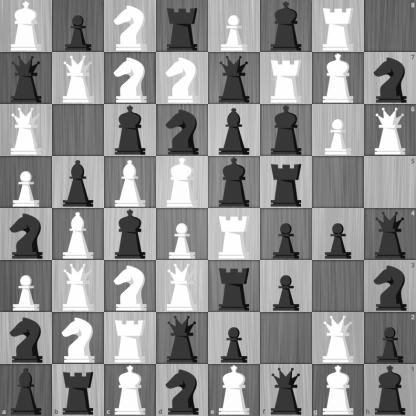B: (53, 209, 104, 260), (105, 157, 156, 208)
K: (104, 364, 156, 416), (312, 364, 364, 416), (209, 364, 260, 416), (1, 1, 52, 52), (157, 157, 208, 208), (313, 53, 364, 104)
N: (53, 313, 104, 364), (105, 1, 156, 52), (105, 53, 156, 104), (105, 261, 156, 312), (157, 53, 208, 104)
P: (1, 157, 52, 208), (1, 261, 52, 312), (157, 209, 208, 260), (209, 1, 260, 52), (313, 105, 364, 156)
Q: (364, 104, 416, 156), (1, 105, 52, 156), (53, 53, 104, 104), (53, 261, 104, 312), (157, 261, 208, 312), (313, 313, 364, 364)
R: (105, 313, 156, 364), (209, 209, 260, 260), (261, 53, 312, 104), (313, 1, 364, 52)
b: (0, 364, 52, 416), (53, 157, 104, 208), (209, 105, 260, 156)
board: (0, 0, 415, 415)
k: (364, 364, 416, 416), (105, 105, 156, 156), (105, 209, 156, 260), (209, 157, 260, 208), (261, 1, 312, 52), (261, 105, 312, 156)
n: (156, 364, 209, 416), (364, 52, 416, 104), (364, 260, 416, 312), (1, 209, 52, 260), (1, 313, 52, 364), (157, 105, 208, 156)
p: (364, 312, 416, 364), (53, 1, 104, 52), (209, 313, 260, 364), (261, 209, 312, 260), (261, 261, 312, 312), (313, 209, 364, 260)
q: (260, 364, 312, 416), (364, 209, 416, 260), (1, 53, 52, 104), (157, 313, 208, 364), (209, 53, 260, 104)
r: (52, 364, 104, 416), (157, 1, 208, 52), (209, 261, 260, 312), (261, 157, 312, 208)
